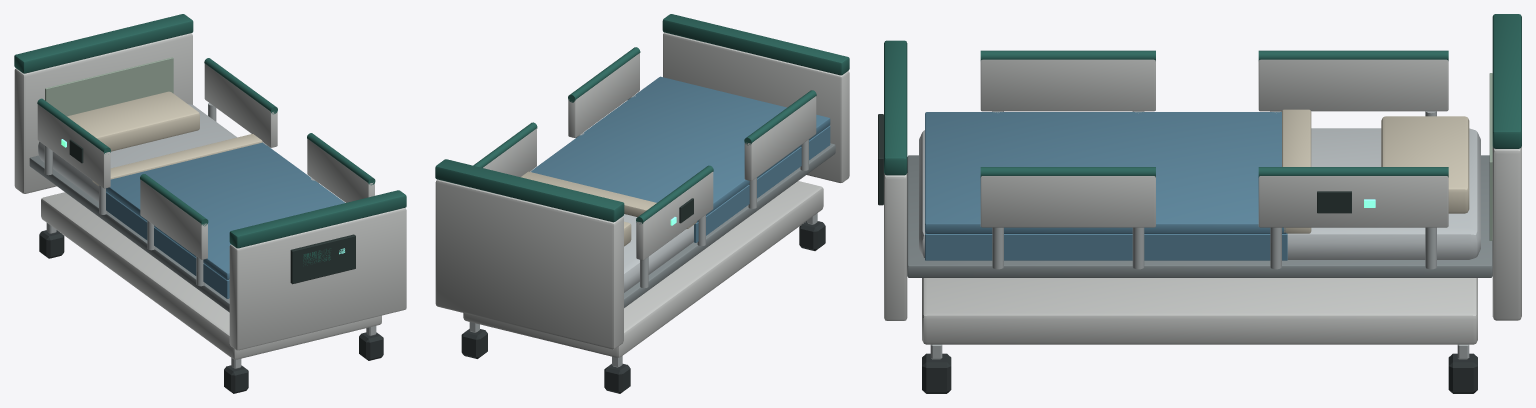
The model's file is hospital-bed.glb.
3 renders of one model, left to right at view 1: azimuth 30°, elevation 25°; view 2: azimuth 150°, elevation 25°; view 3: azimuth 270°, elevation 25°, orthographic. The views are drawn at different scales.
Visible parts, largest first — view 1: hospital-bed; view 2: hospital-bed; view 3: hospital-bed.
Boxes of the visible parts, box(x1,y1,x2,y2) form: hospital-bed: box(14, 14, 406, 393); hospital-bed: box(435, 14, 849, 393); hospital-bed: box(878, 14, 1521, 393).
Bounding box in the file's own units: 1 × 1.02 × 2.2.
